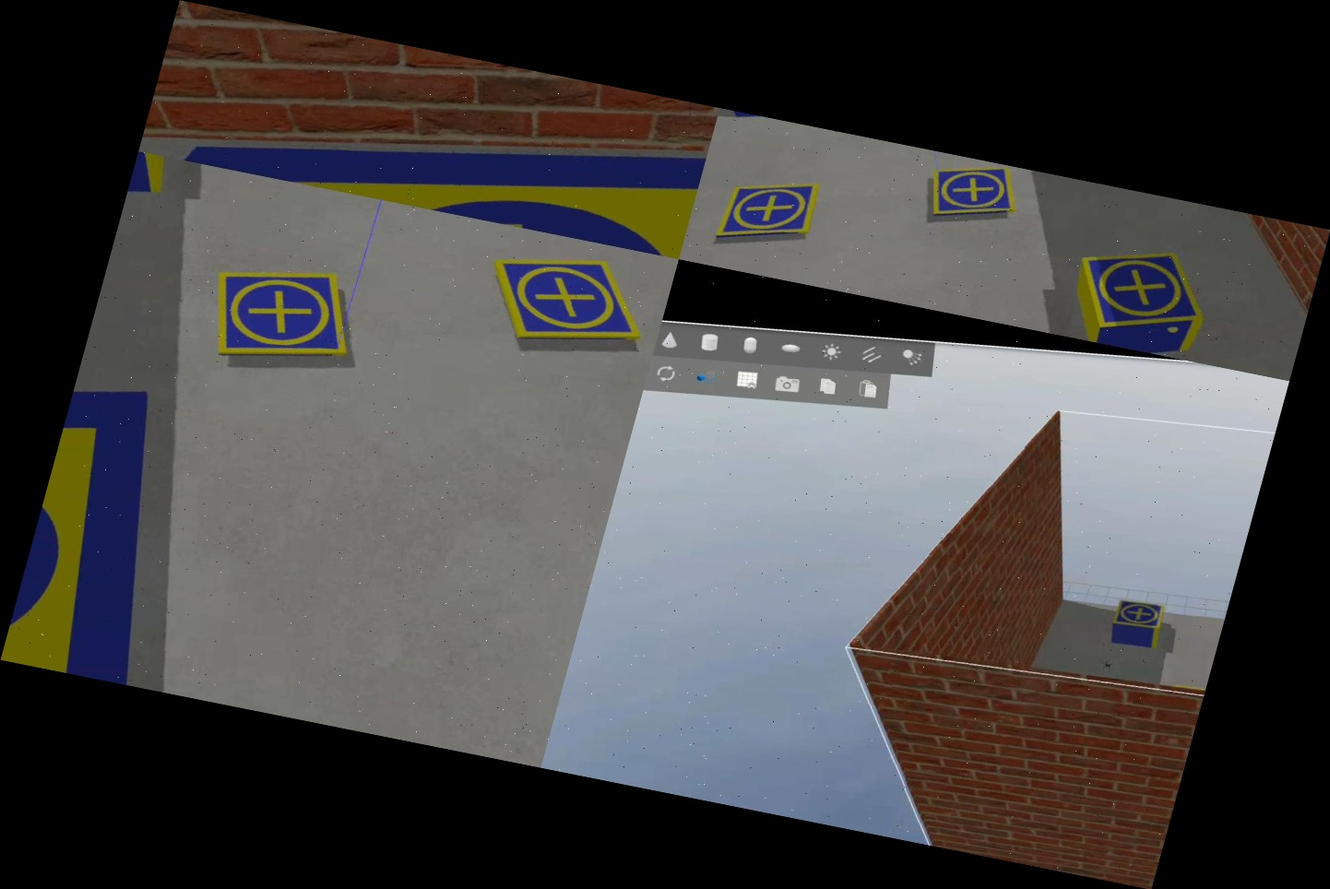large_base: (138, 0, 719, 259), (0, 375, 227, 689)
small_base: (470, 234, 665, 367), (195, 248, 369, 381), (1063, 231, 1225, 351), (706, 165, 828, 257), (915, 155, 1025, 235), (1108, 591, 1172, 636)
